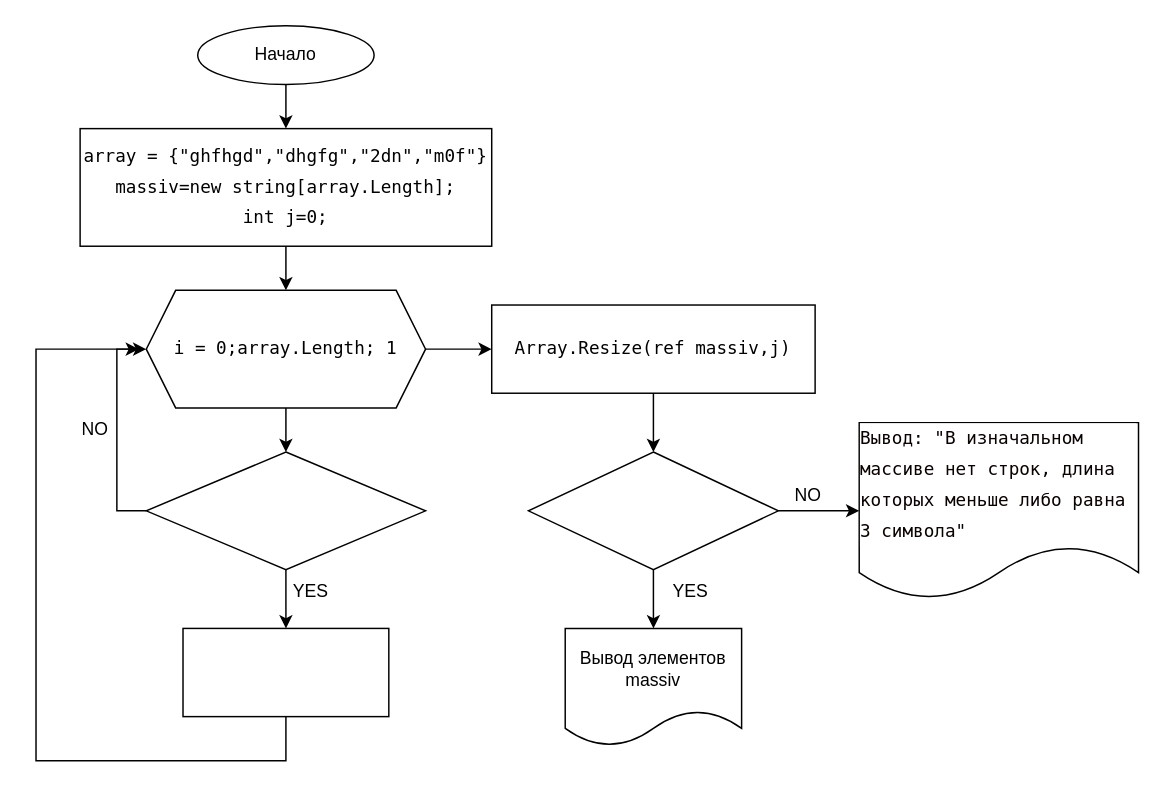
This 1164x798 diagram has some shape labels left out. Here are the shapes that lost their labels. From the top down, the centre of each, then its label:
At (285,510): "array[i].Length<=3".
At (652,510): "massiv .Length!=0".
At (285,672): "massiv[j]=array[i]; j++;".
